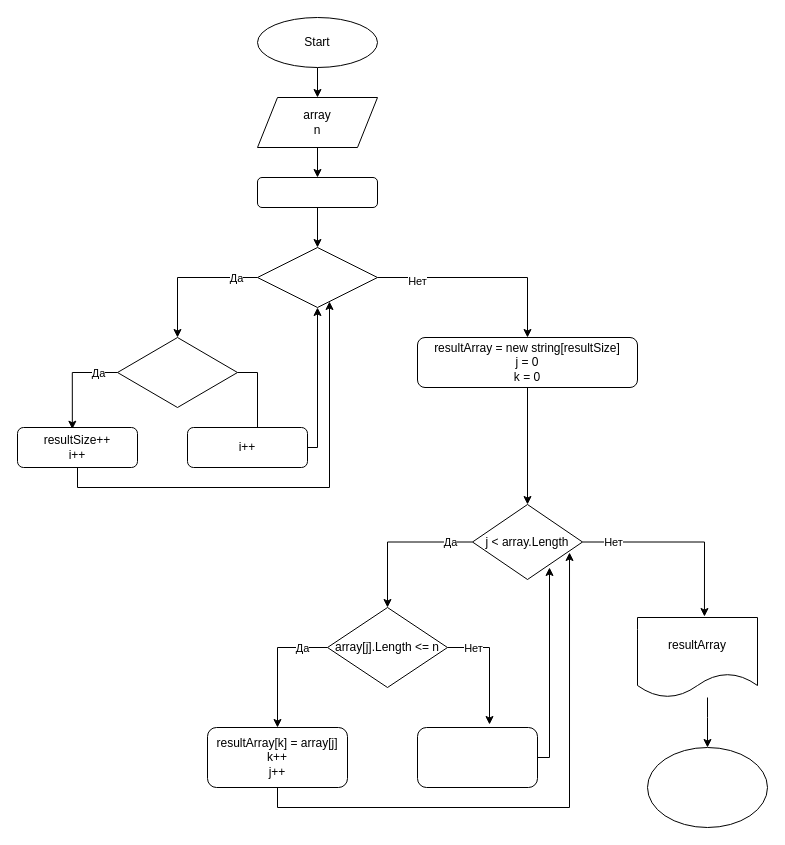
Some shapes in this 785 by 845 pixel diagram are drawn without their labels. Here are the shapes that lost their labels. From the top down, the centre of each, then its label:
At point 317,192: "i = 0 resultSize = 0".
At point 317,277: "i < array.Length".
At point 177,372: "array[i].Length <= n".
At point 477,757: "j++".
At point 707,787: "Finish".
